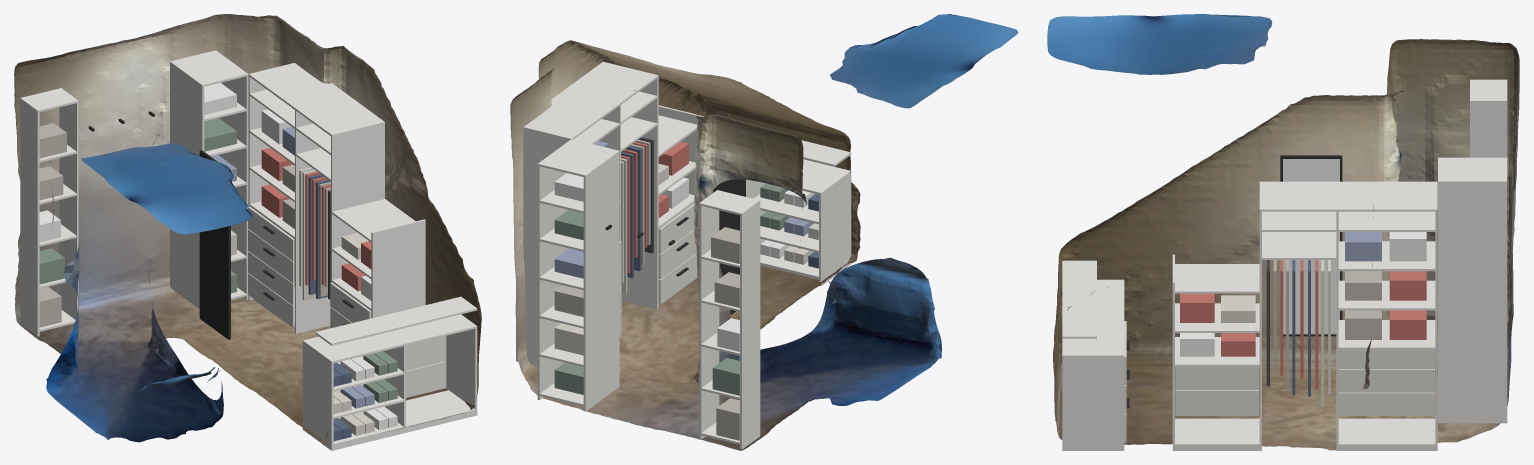
3 views of the same model, side by side, from view 1: azimuth 30°, elevation 25°; view 2: azimuth 150°, elevation 25°; view 3: azimuth 270°, elevation 25° (orthographic). The views are drawn at different scales.
Parts seen in each view (by area): view 1: Scan_Closet2, E2_Panel_S, E1_EndPanel, N_Panel_W, N2_Side_W, E_Top, Mirror_Frame, N2_Side_E, S_Side_W, S_Bottom, S_Top, N_Panel_E (+34 smaller); view 2: Scan_Closet2, N_Panel_W, N2_Side_W, E_Top, E3_EndPanel, N_Panel_E, N2_Side_E, S_Side_W, E2_Panel_S, N_Top, S_Top, E1_Drawer_Front1 (+37 smaller); view 3: Scan_Closet2, N_Panel_E, S_Side_E, E_Top, Mirror_Glass, E3_Bottom, S_Top, E1_Bottom, S_Shelf_Upper, E1_Shelf_140, E3_Drawer_Front1, E3_Drawer_Front2 (+34 smaller).
Boxes of the visible parts, x1,y1,x2,y2 form: Scan_Closet2: (14, 14, 481, 445); E2_Panel_S: (331, 121, 384, 310); E1_EndPanel: (371, 219, 425, 318); N_Panel_W: (170, 61, 204, 308); N2_Side_W: (20, 97, 39, 336); E_Top: (249, 63, 383, 136); Mirror_Frame: (199, 150, 230, 339); N2_Side_E: (59, 88, 78, 324); S_Side_W: (302, 340, 333, 449); S_Bottom: (306, 390, 477, 450); S_Top: (303, 315, 475, 362); N_Panel_E: (214, 50, 248, 300); Scan_Closet2: (510, 14, 1018, 450); N_Panel_W: (583, 150, 619, 411); N2_Side_W: (740, 200, 760, 449); E_Top: (523, 62, 658, 140); E3_EndPanel: (516, 126, 572, 366); N_Panel_E: (537, 139, 572, 400); N2_Side_E: (699, 190, 719, 439); S_Side_W: (819, 170, 851, 286); E2_Panel_S: (603, 61, 658, 309); N_Top: (539, 139, 619, 176); S_Top: (802, 159, 850, 194); E1_Drawer_Front1: (658, 253, 697, 304); Scan_Closet2: (1047, 14, 1519, 450); N_Panel_E: (1438, 180, 1507, 423); S_Side_E: (1062, 354, 1124, 450); E_Top: (1259, 181, 1437, 211); Mirror_Glass: (1283, 159, 1339, 334); E3_Bottom: (1338, 418, 1435, 450); S_Top: (1062, 279, 1124, 357); E1_Bottom: (1175, 418, 1259, 450); S_Shelf_Upper: (1062, 260, 1096, 338); E1_Shelf_140: (1175, 264, 1259, 293); E3_Drawer_Front1: (1339, 392, 1434, 415); E3_Drawer_Front2: (1339, 369, 1434, 392).
Bounding box in the file's own units: 3.17 × 2.6 × 3.81.
14 materials, 1 textured.
